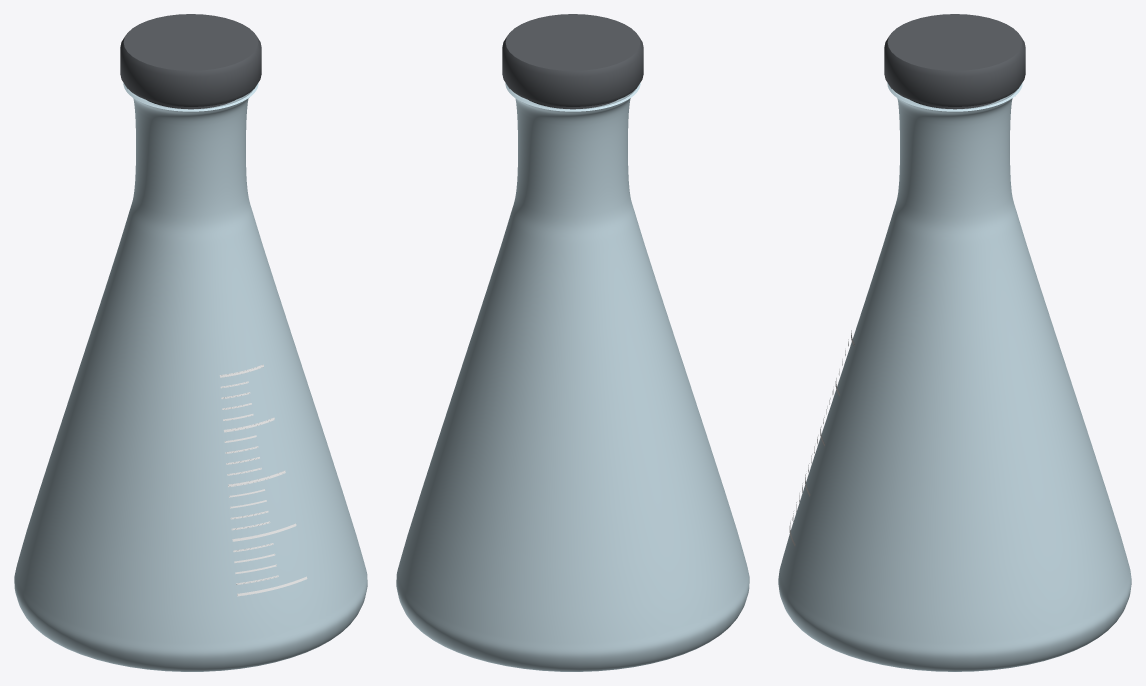
The model's file is conical-flask.glb.
3 renders of one model, left to right at view 1: azimuth 30°, elevation 25°; view 2: azimuth 150°, elevation 25°; view 3: azimuth 270°, elevation 25°, orthographic.
Parts seen in each view (by area): view 1: Conical_Flask, Bung; view 2: Conical_Flask, Bung; view 3: Conical_Flask, Bung.
Part boxes in pixels (box(x1,y1,x2,y2)): Conical_Flask: box(14, 83, 367, 671); Bung: box(120, 14, 261, 109); Conical_Flask: box(396, 83, 749, 671); Bung: box(502, 14, 643, 109); Conical_Flask: box(778, 83, 1131, 671); Bung: box(884, 14, 1025, 109).
Bounding box in the file's own units: 0.1071 × 0.1872 × 0.1071.
Materials: 4 (1 with a texture image).
